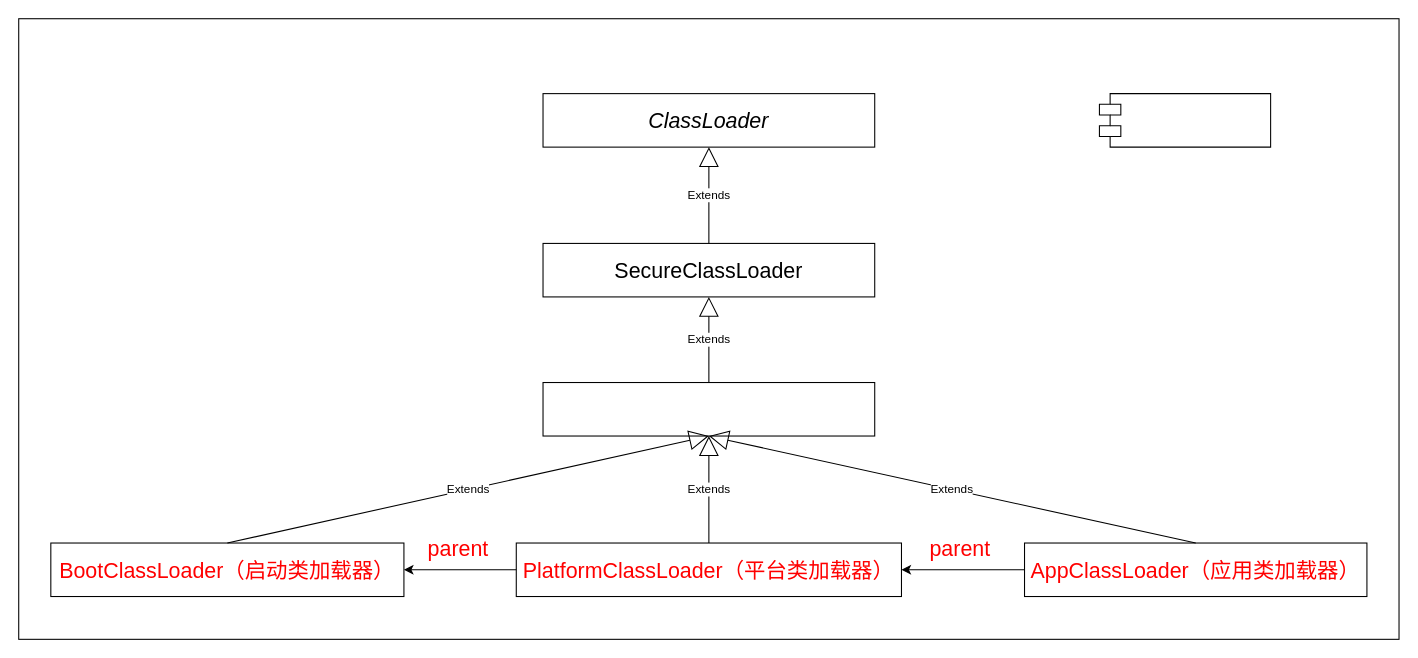
This 1418x658 diagram has some shape labels left out. Here are the shapes that lost their labels. From the top down, the box of each, then its label:
(1098, 93, 1271, 147): java
(542, 381, 875, 436): BuiltinClassLoader
